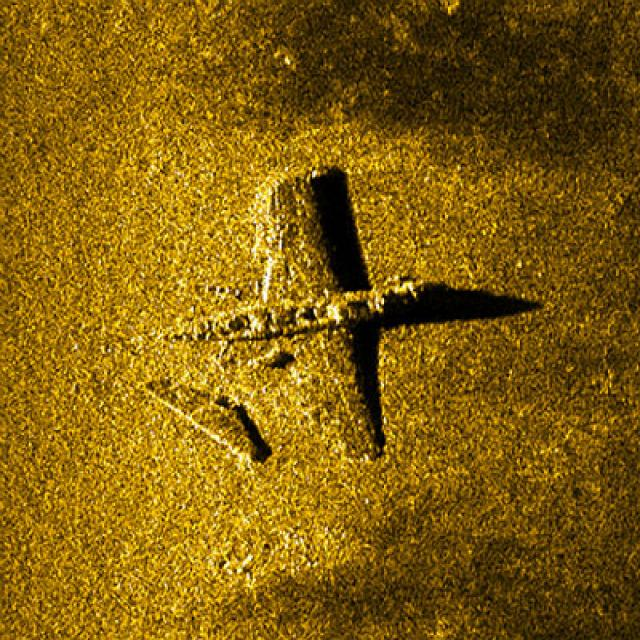plane: (134, 152, 464, 466)
